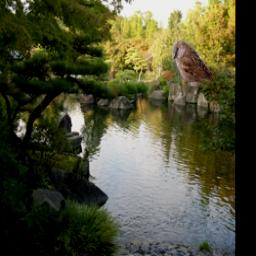Sparrow: (173, 40, 215, 88)
